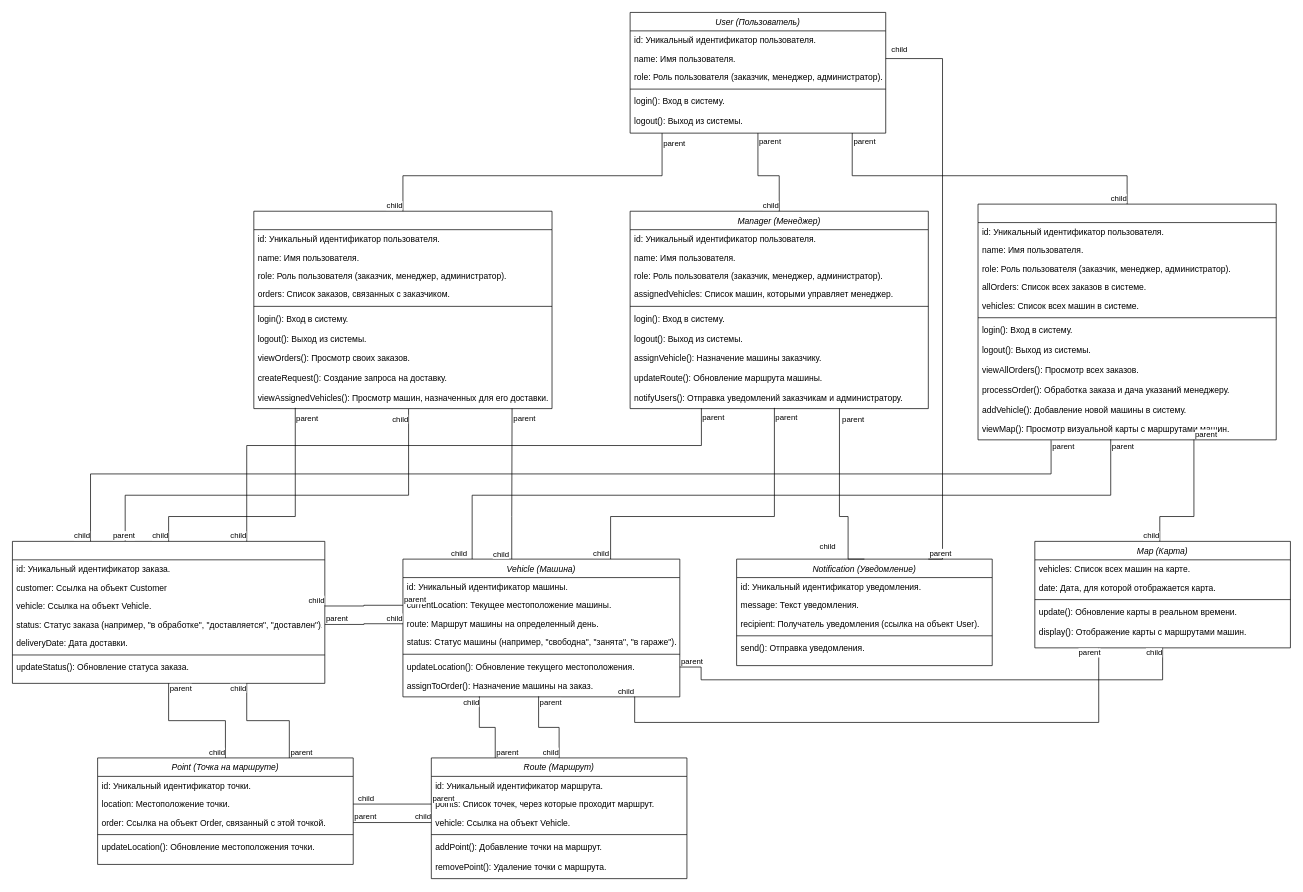
This 1303x892 diagram has some shape labels left out. The box of each missing label's shape, as (x1, y1, x2, y2) in pixels:
Administrator (Администратор): (977, 203, 1276, 440)
Customer (Заказчик): (253, 211, 552, 409)
Order (Заказ): (12, 541, 325, 683)
